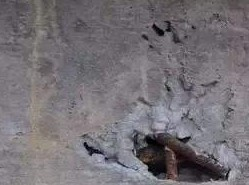Exposed reinforcement: (147, 132, 230, 178), (135, 145, 185, 165), (163, 144, 180, 181)
Spalling: (74, 72, 249, 185), (139, 20, 197, 50)
